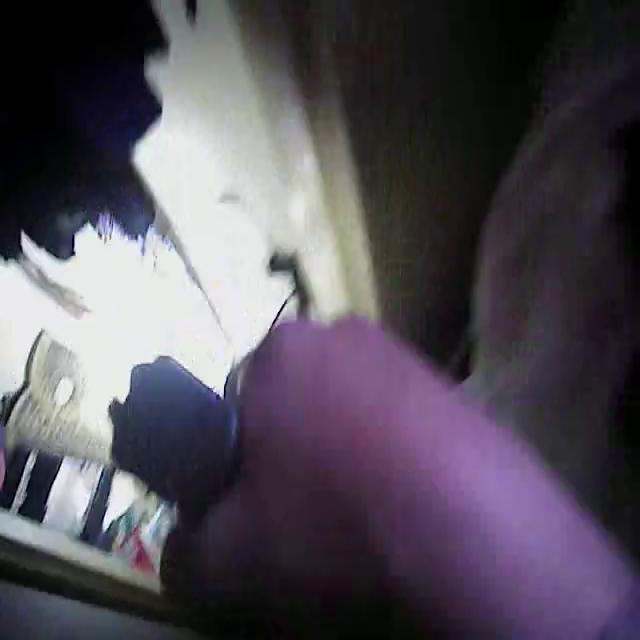gun: (76, 305, 295, 589)
